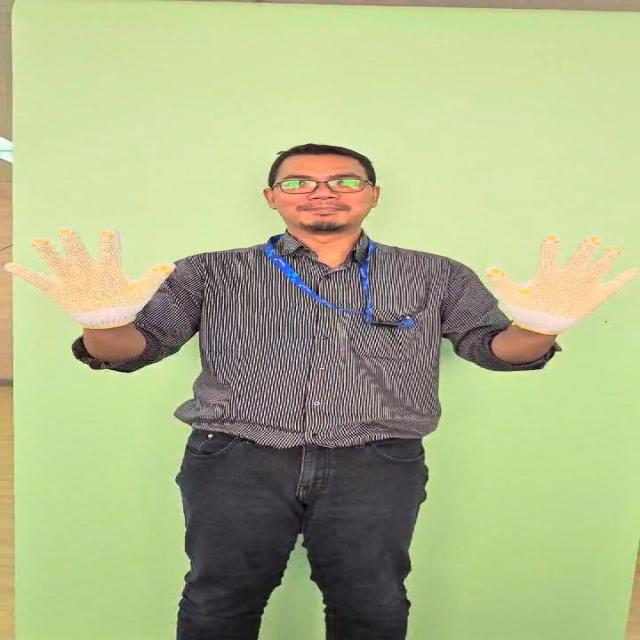gloves: (4, 228, 175, 330), (481, 234, 640, 335)
goggles: (270, 178, 376, 194)
